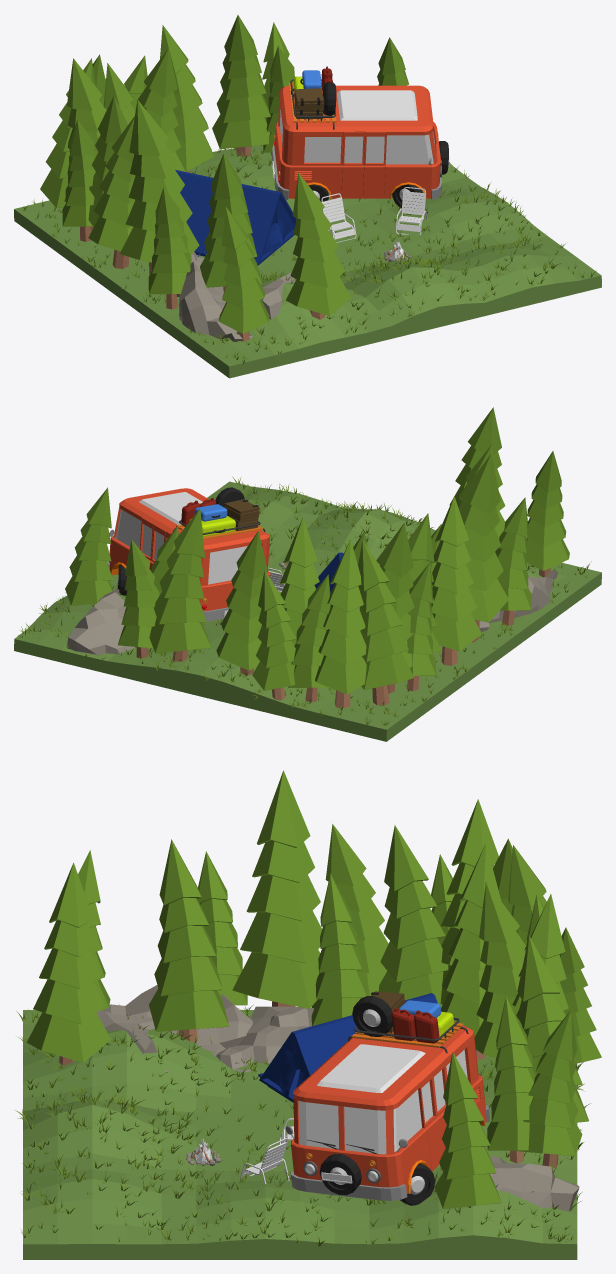
The model's file is camping.fbx.
3 renders of one model, top to bottom at view 1: azimuth 30°, elevation 25°; view 2: azimuth 150°, elevation 25°; view 3: azimuth 270°, elevation 25°, orthographic. The views are drawn at different scales.
Visible parts, largest first — view 1: Cube.019, Cube, çimenler, Cone.027, Cone.025, Cone.029, Cube.014, Cone.030, Cone.002, camlar, Cone.026, Cone.009 (+16 smaller); view 2: Cube.019, Cone.029, Cone.000, Cone.002, Cube, Cone.027, Cone.021, çimenler, Cone.023, Cone.030, Cone.005, Cone.028 (+14 smaller); view 3: Cube.019, Cube, Cone.027, çimenler, Cone.025, Cone.026, Cone.022, Cone.028, Cone.007, camlar, Cone.006, Cone.003 (+24 smaller).
Boxes of the visible parts, box(x1,y1,x2,y2) form: Cube.019: box(14, 145, 601, 378); Cube: box(274, 85, 440, 198); çimenler: box(21, 145, 596, 364); Cone.027: box(120, 99, 199, 274); Cone.025: box(286, 172, 350, 319); Cone.029: box(212, 15, 270, 156); Cube.014: box(175, 170, 296, 265); Cone.030: box(218, 206, 269, 341); Cone.002: box(88, 116, 135, 268); camlar: box(279, 109, 435, 164); Cone.026: box(200, 153, 261, 291); Cone.009: box(148, 187, 191, 309); Cube.019: box(14, 481, 601, 741); Cone.029: box(149, 508, 211, 661); Cone.000: box(315, 539, 366, 708); Cone.002: box(431, 496, 481, 665); Cube: box(109, 488, 270, 611); Cone.027: box(458, 453, 508, 642); Cone.021: box(358, 540, 414, 705); çimenler: box(18, 476, 591, 726); Cone.023: box(216, 531, 267, 675); Cone.030: box(526, 451, 569, 577); Cone.005: box(252, 570, 296, 700); Cone.028: box(65, 487, 112, 605); Cube.019: box(23, 1010, 577, 1259); Cube: box(291, 1026, 486, 1193); Cone.027: box(232, 770, 322, 1008); çimenler: box(15, 1004, 590, 1246); Cone.025: box(26, 862, 110, 1065); Cone.026: box(149, 839, 228, 1041); Cone.022: box(378, 825, 448, 1008); Cone.028: box(434, 1052, 501, 1208); Cone.007: box(517, 1010, 582, 1167); camlar: box(298, 1049, 467, 1154); Cone.006: box(487, 996, 535, 1163); Cone.003: box(474, 882, 525, 1057).
Size of the model in its own units: 1658 by 833 by 1697.
